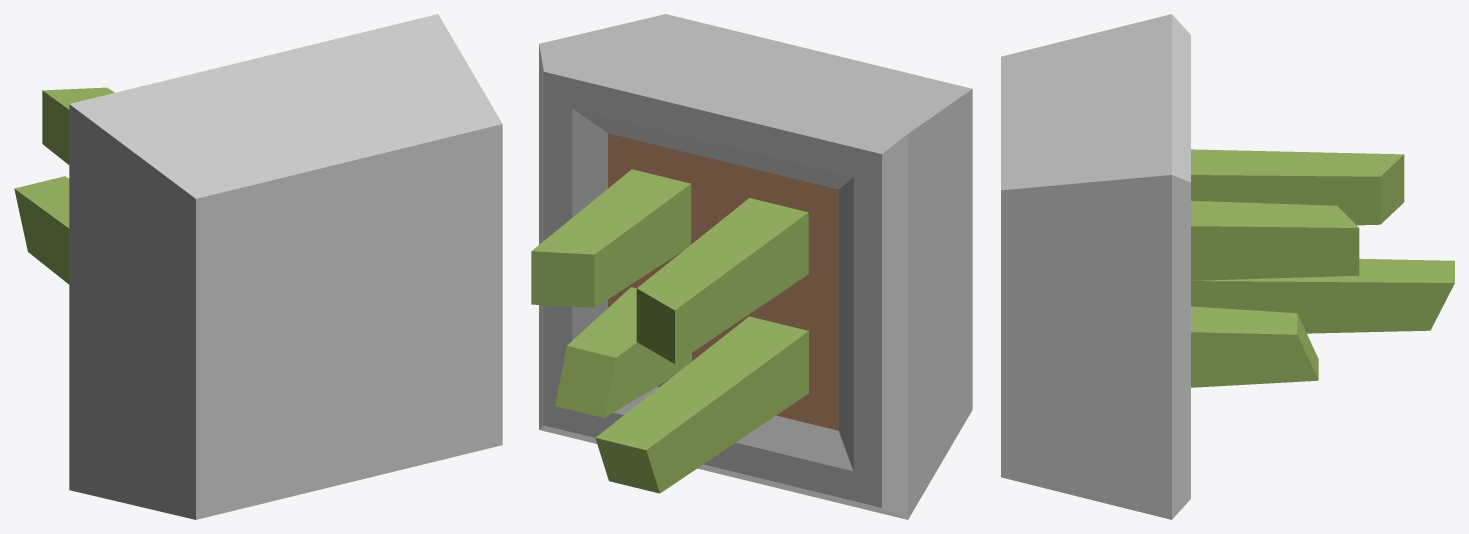
The model's file is Deco_3.glb.
3 views of the same model, side by side, from view 1: azimuth 30°, elevation 25°; view 2: azimuth 150°, elevation 25°; view 3: azimuth 270°, elevation 25° (orthographic). The views are drawn at different scales.
Visible parts, largest first — view 1: Deco 3; view 2: Deco 3; view 3: Deco 3.
Boxes of the visible parts, x1,y1,x2,y2 form: Deco 3: (14, 14, 502, 519); Deco 3: (531, 14, 972, 519); Deco 3: (1001, 14, 1454, 519).
Bounding box in the file's own units: 0.0798 × 0.0798 × 0.0951.
1 material, 1 textured.
